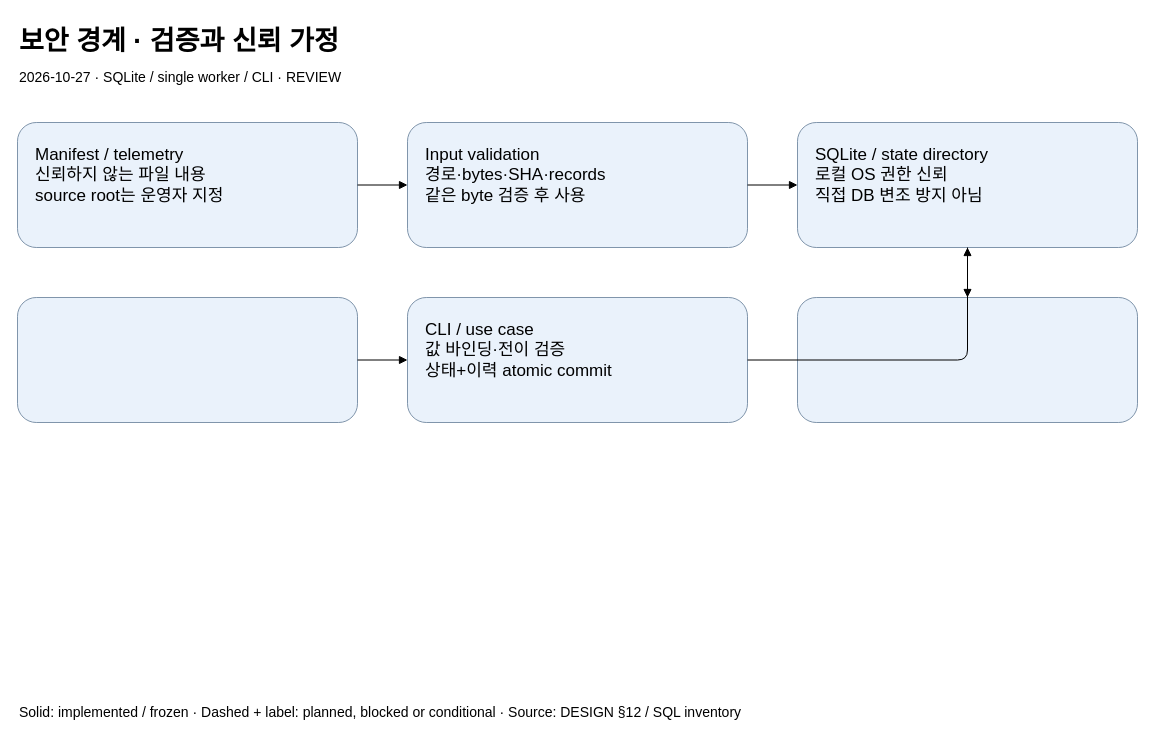
The diagram is 1155 pixels wide and 754 high, and some of its shapes have lost their labels. The centre of each missing label's shape, as x and y in pixels:
"Local operator label / note는 자유 입력 인증 주체와 구분" goes at (x=187, y=359).
"Output / documentation 마스킹·JSON·text escape SVG active/remote 차단" goes at (x=967, y=359).
